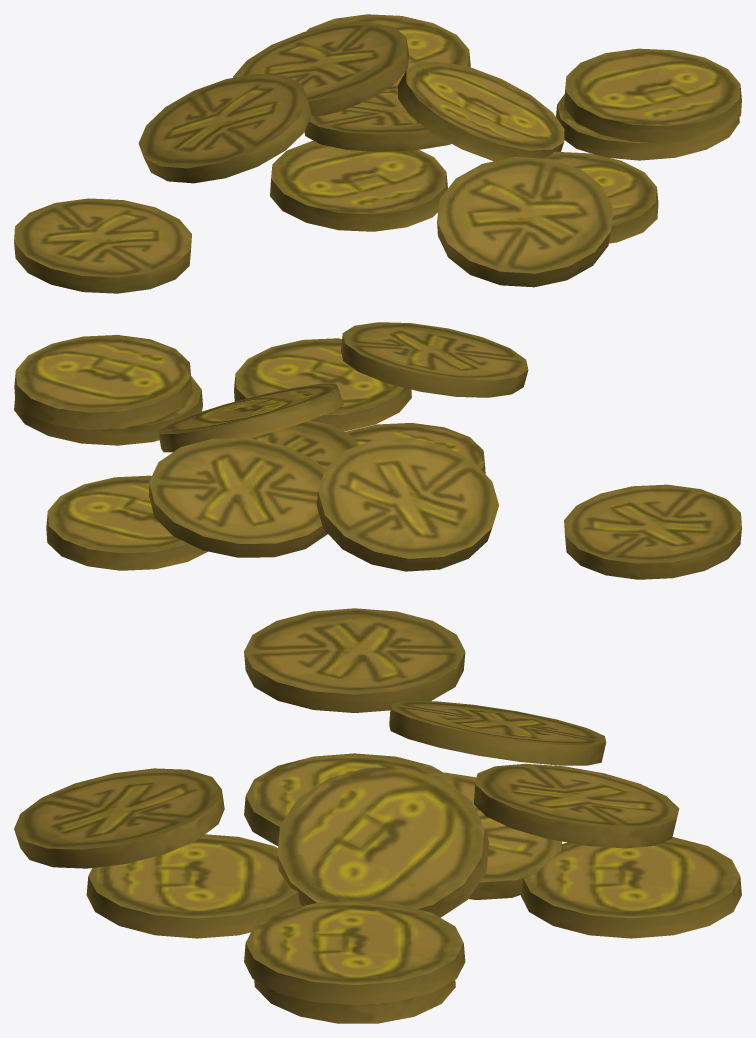
File: e_asset_coinpile.fbx
3 views of the same model, one above another, from view 1: azimuth 30°, elevation 25°; view 2: azimuth 150°, elevation 25°; view 3: azimuth 270°, elevation 25° (orthographic). The views are drawn at different scales.
Visible parts, largest first — view 1: polySurface952; view 2: polySurface952; view 3: polySurface952.
Part boxes in pixels (bbox=[...]): polySurface952: bbox=[14, 14, 741, 293]; polySurface952: bbox=[14, 322, 741, 579]; polySurface952: bbox=[14, 608, 741, 1023].
Bounding box in the file's own units: 0.3343 × 0.0351 × 0.2594.
